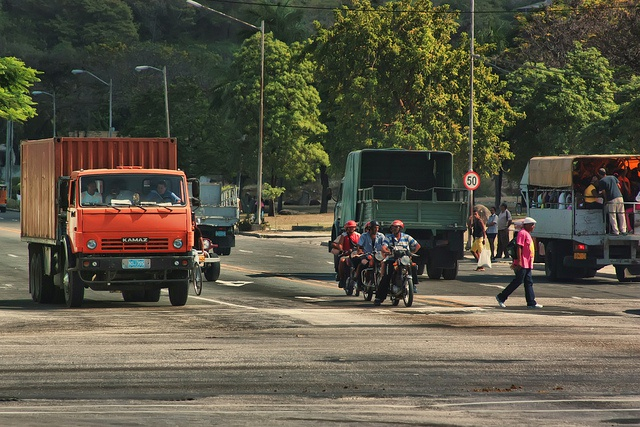non-vehicle: (384, 245, 422, 307), (359, 250, 392, 300), (341, 249, 367, 296)
